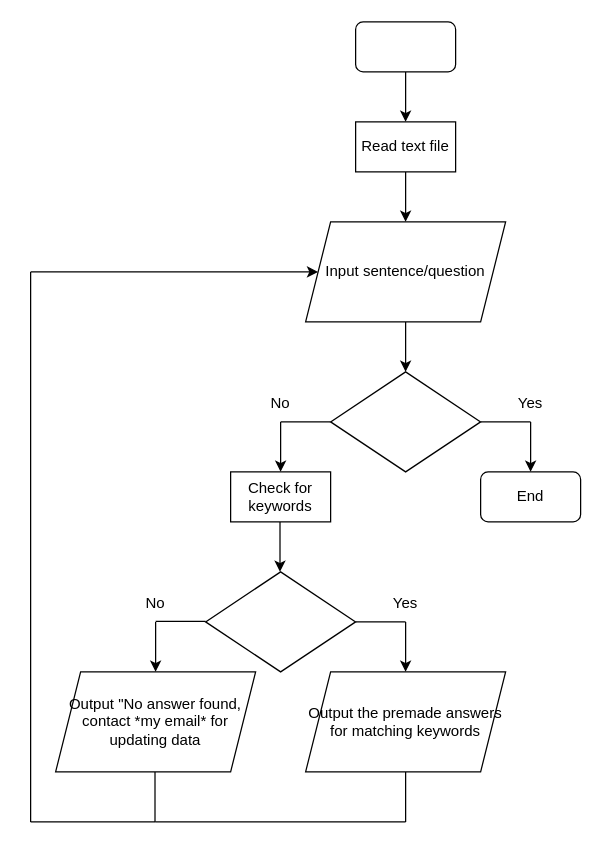
Image size: 603x845. Some labels were removed from this diagram. The shapes that lost their labels are listed below. From the top down, each one's centre as x and y in pixels, then its label:
point (405, 46): Start
point (405, 421): Is input "quit"
point (280, 621): Keyword match
